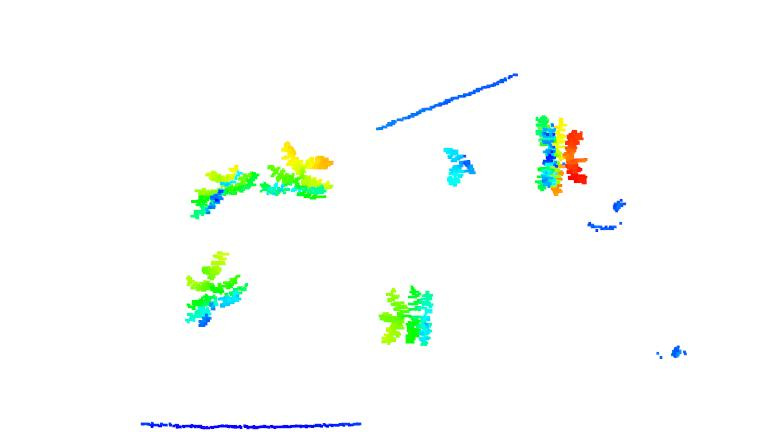chickpea: (179, 249, 250, 327), (529, 113, 590, 195), (259, 140, 335, 201), (187, 162, 261, 218), (377, 283, 436, 351), (442, 144, 479, 187)
